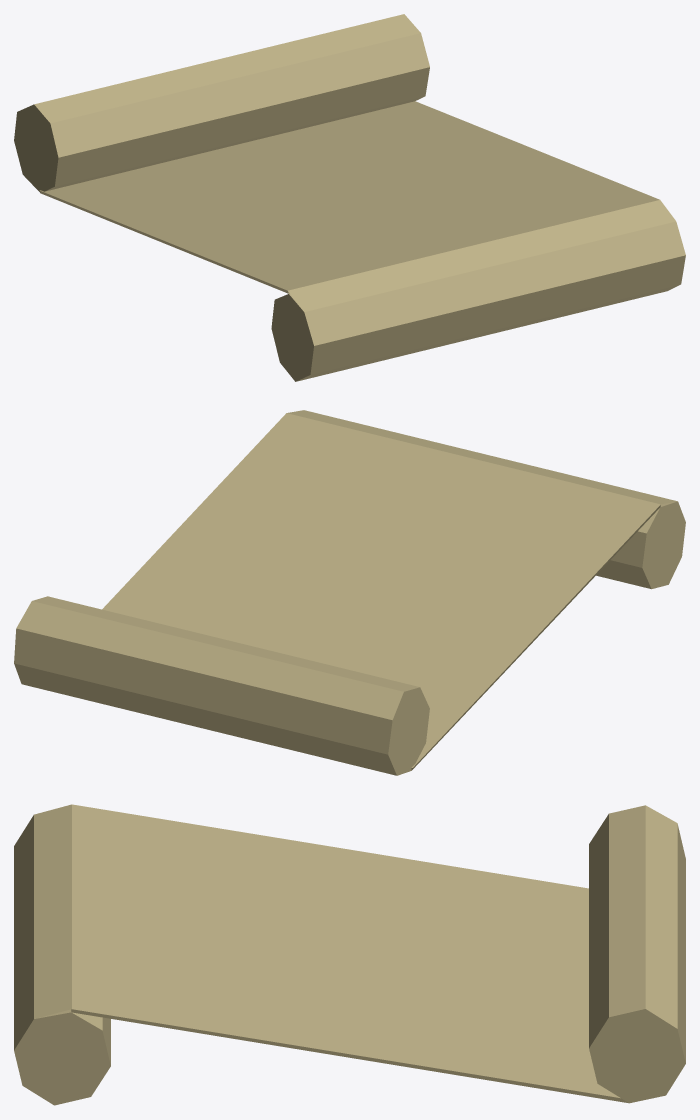
Rendered from greek_parchment.fbx.
The picture shows the model from 3 angles, top to bottom: view 1: azimuth 30°, elevation 25°; view 2: azimuth 150°, elevation 25°; view 3: azimuth 270°, elevation 25°; orthographic projection. The views are drawn at different scales.
Visible parts, largest first — view 1: Cylinder.010; view 2: Cylinder.010; view 3: Cylinder.010.
Part boxes in pixels (<box>): Cylinder.010: <box>14,14,685,381</box>; Cylinder.010: <box>14,410,685,775</box>; Cylinder.010: <box>14,804,685,1105</box>.
Size of the model in its own units: 35.65 by 7.79 by 49.17.
